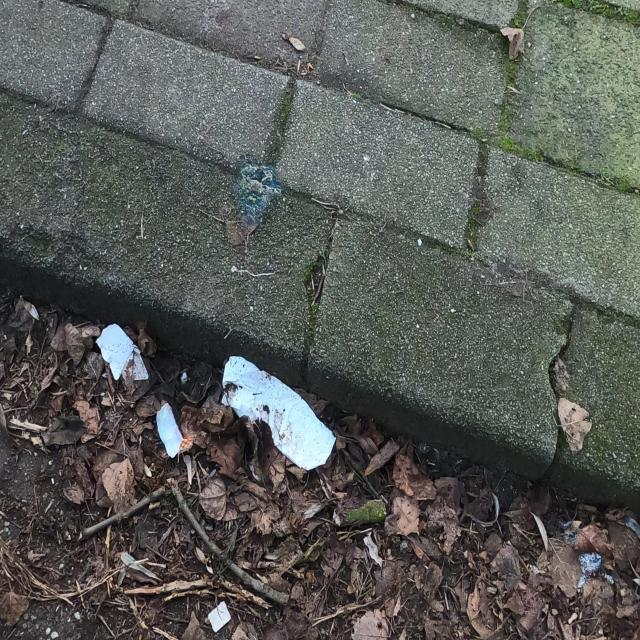Paper: (220, 354, 338, 474)
